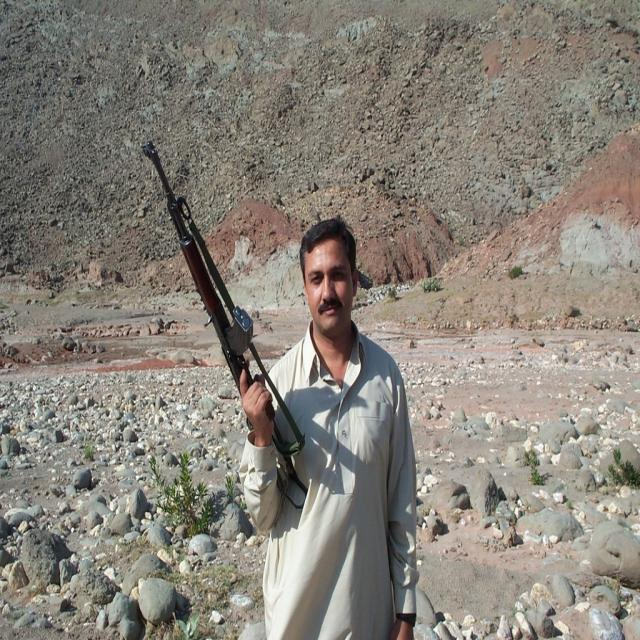weapon: (142, 137, 308, 500)
